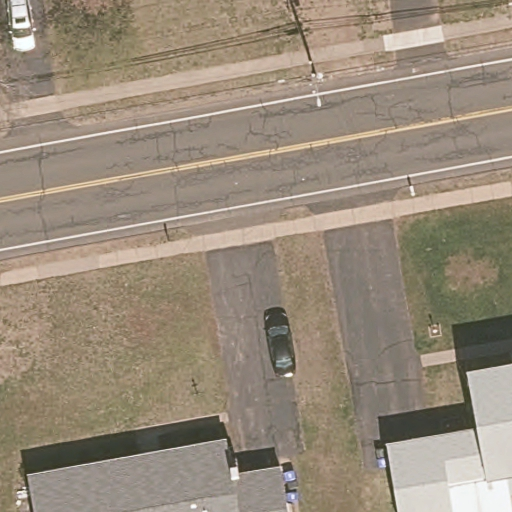DT: (278, 60, 324, 109)
